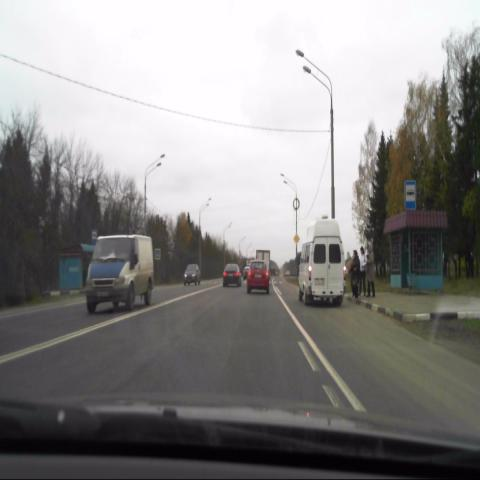2_1: (294, 231, 301, 246)
5_16: (404, 179, 417, 211)
5_19_1: (154, 248, 161, 260)
